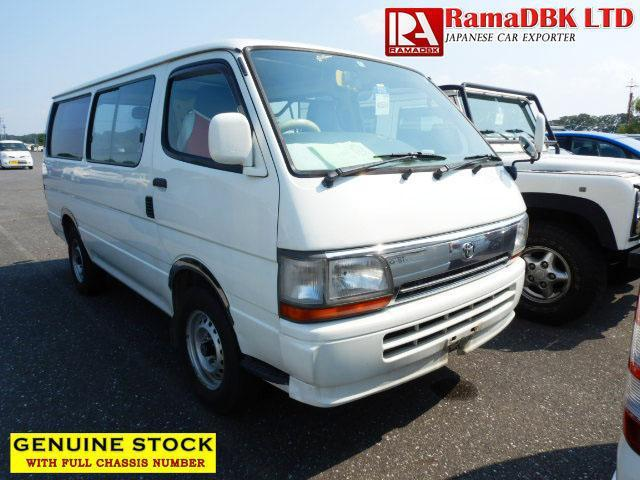van: (44, 40, 528, 402)
